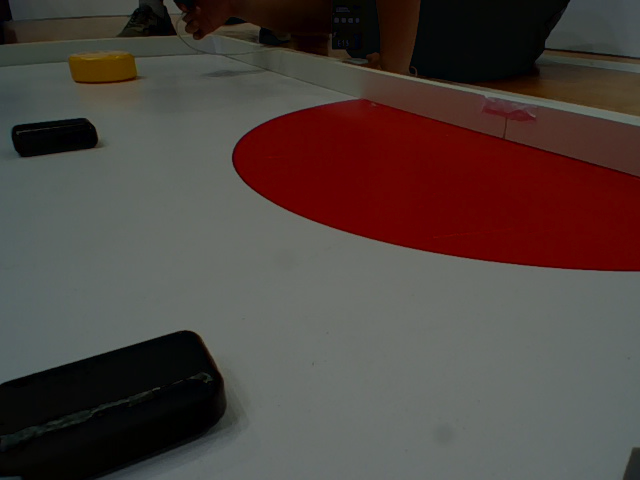black: (1, 331, 238, 468), (12, 115, 102, 156)
yellow: (67, 48, 142, 82)
